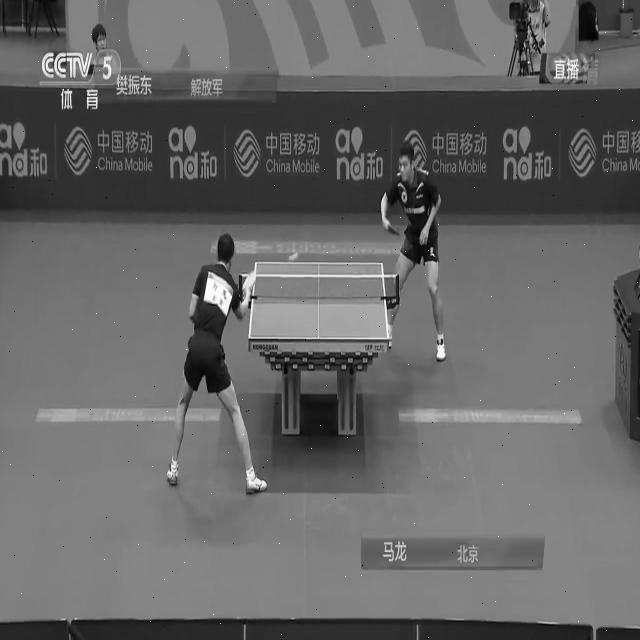ping-pong-ball: (286, 248, 298, 262)
